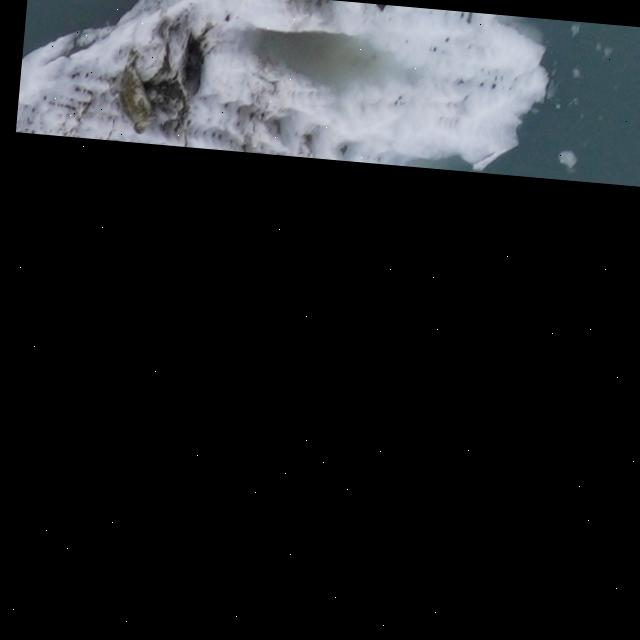seal: (111, 41, 170, 140), (170, 25, 215, 107), (374, 4, 385, 9)
